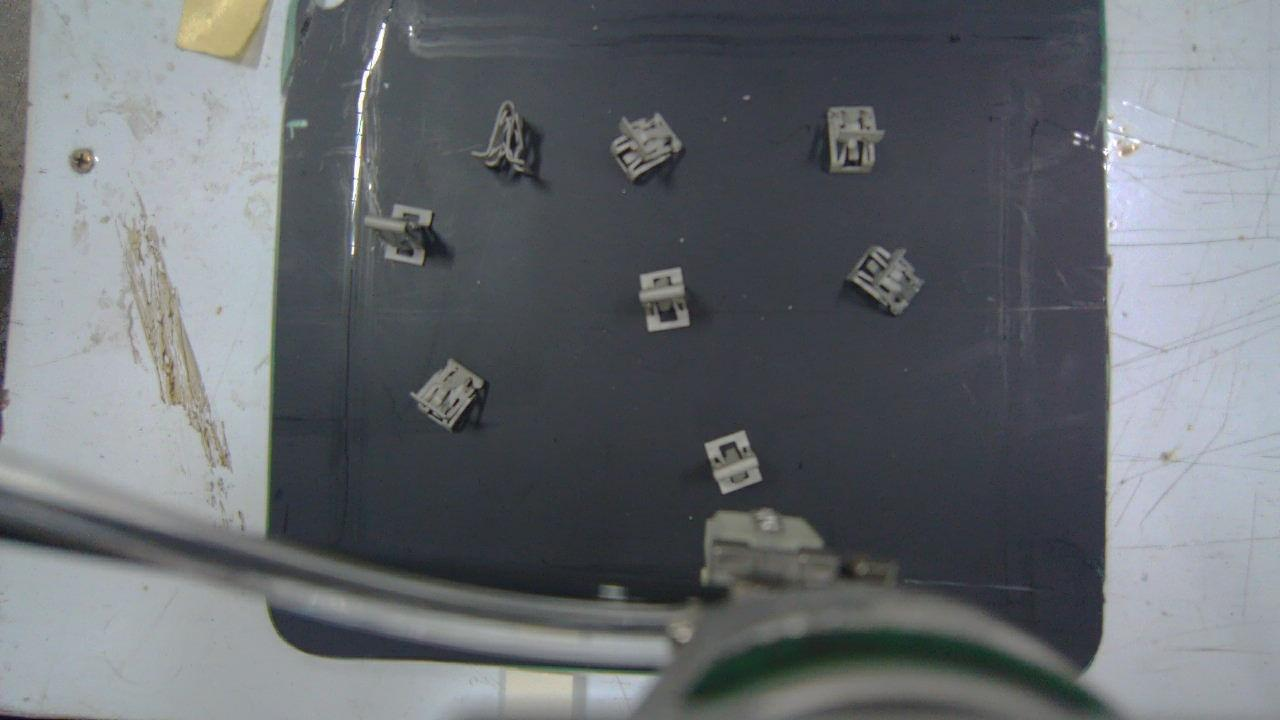ng: (845, 245, 930, 316), (409, 357, 486, 428), (470, 98, 535, 177), (613, 115, 684, 181), (829, 104, 880, 170)
pass: (366, 207, 432, 265), (706, 433, 763, 494), (640, 266, 691, 331)
